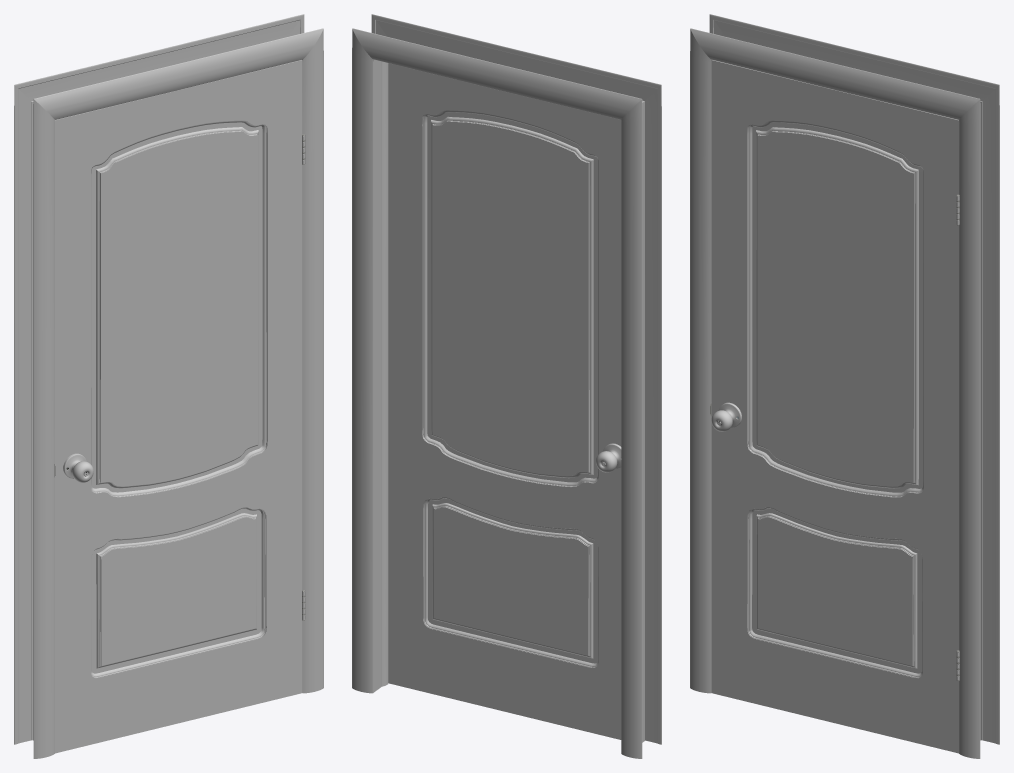
File: Orange-wooden-door.fbx
The picture shows the model from 3 angles, left to right: view 1: azimuth 30°, elevation 25°; view 2: azimuth 150°, elevation 25°; view 3: azimuth 330°, elevation 25°; orthographic projection.
Visible parts, largest first — view 1: Door, Ram; view 2: Door, Ram; view 3: Door, Ram.
Boxes of the visible parts, x1,y1,x2,y2 form: Door: (54,60,302,753); Ram: (14,14,323,758); Door: (388,63,621,739); Ram: (352,14,661,758); Door: (711,60,958,753); Ram: (690,14,999,758).
Size of the model in its own units: 98.67 by 214 by 19.73.
